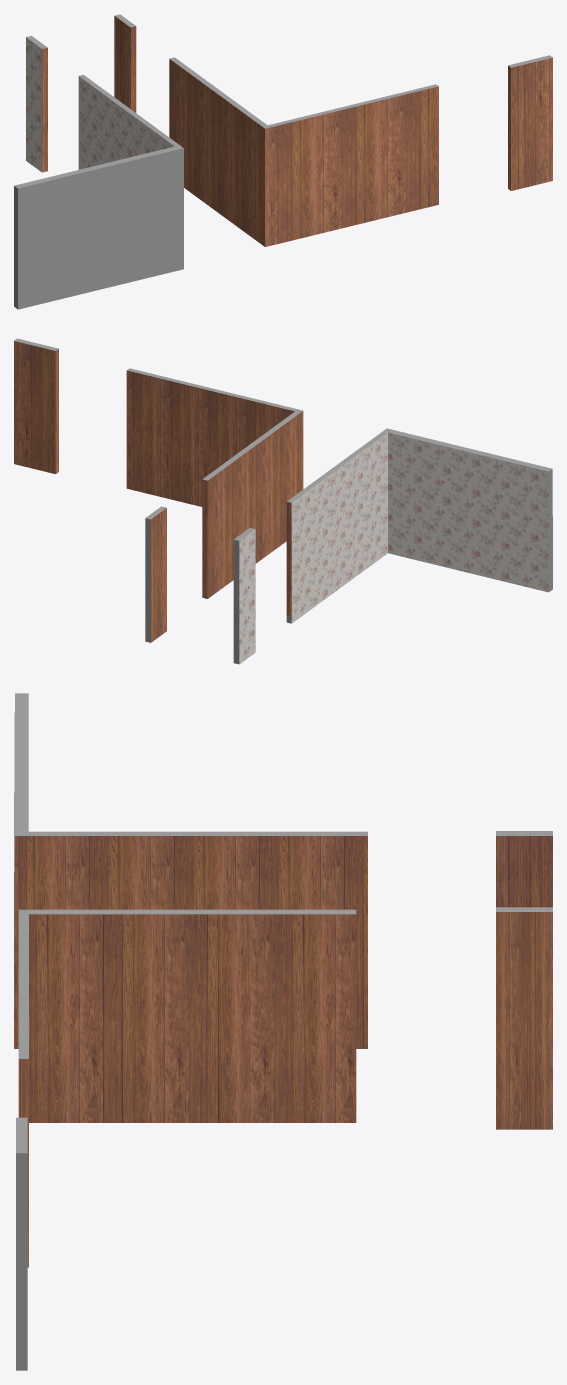
The model's file is FarmhouseInsideWalls.fbx.
The picture shows the model from 3 angles, top to bottom: view 1: azimuth 30°, elevation 25°; view 2: azimuth 150°, elevation 25°; view 3: azimuth 270°, elevation 25°; orthographic projection. The views are drawn at different scales.
Parts seen in each view (by area): view 1: FarmhouseWall2, FarmhouseWall1, FarmhouseWall3, FarmhouseWall7, FarmhouseWall6; view 2: FarmhouseWall1, FarmhouseWall2, FarmhouseWall3, FarmhouseWall7, FarmhouseWall6; view 3: FarmhouseWall2, FarmhouseWall1, FarmhouseWall6, FarmhouseWall7, FarmhouseWall3.
Part boxes in pixels (x1,y1,x2,y2): FarmhouseWall2: (169, 57, 438, 246); FarmhouseWall1: (14, 74, 183, 309); FarmhouseWall3: (508, 55, 552, 190); FarmhouseWall7: (26, 36, 47, 172); FarmhouseWall6: (114, 14, 136, 112); FarmhouseWall1: (286, 428, 552, 623); FarmhouseWall2: (126, 368, 303, 598); FarmhouseWall3: (14, 338, 58, 474); FarmhouseWall7: (233, 528, 255, 664); FarmhouseWall6: (145, 506, 166, 642); FarmhouseWall2: (18, 909, 356, 1267); FarmhouseWall1: (14, 693, 367, 1048); FarmhouseWall6: (496, 907, 552, 1129); FarmhouseWall7: (496, 831, 552, 907); FarmhouseWall3: (16, 1117, 27, 1370).
Bounding box in the file's own units: 55.5 × 12.24 × 27.47.
